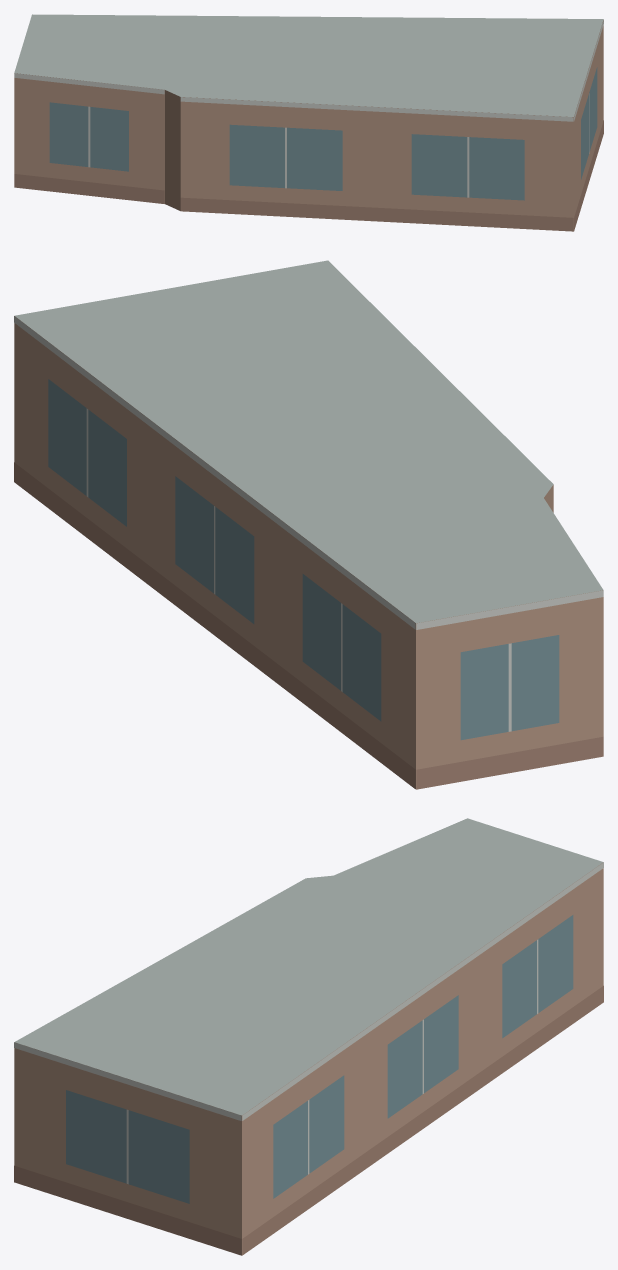
The model's file is survey-upis-32485154.glb.
The picture shows the model from 3 angles, top to bottom: view 1: azimuth 30°, elevation 25°; view 2: azimuth 150°, elevation 25°; view 3: azimuth 270°, elevation 25°; orthographic projection. The views are drawn at different scales.
Visible parts, largest first — view 1: survey-upis-32485154.tmp; view 2: survey-upis-32485154.tmp; view 3: survey-upis-32485154.tmp.
Part boxes in pixels (<box>): survey-upis-32485154.tmp: <box>14,14,603,231</box>; survey-upis-32485154.tmp: <box>14,260,603,789</box>; survey-upis-32485154.tmp: <box>14,818,603,1255</box>.
Size of the model in its own units: 13.89 by 3.05 by 11.64.
